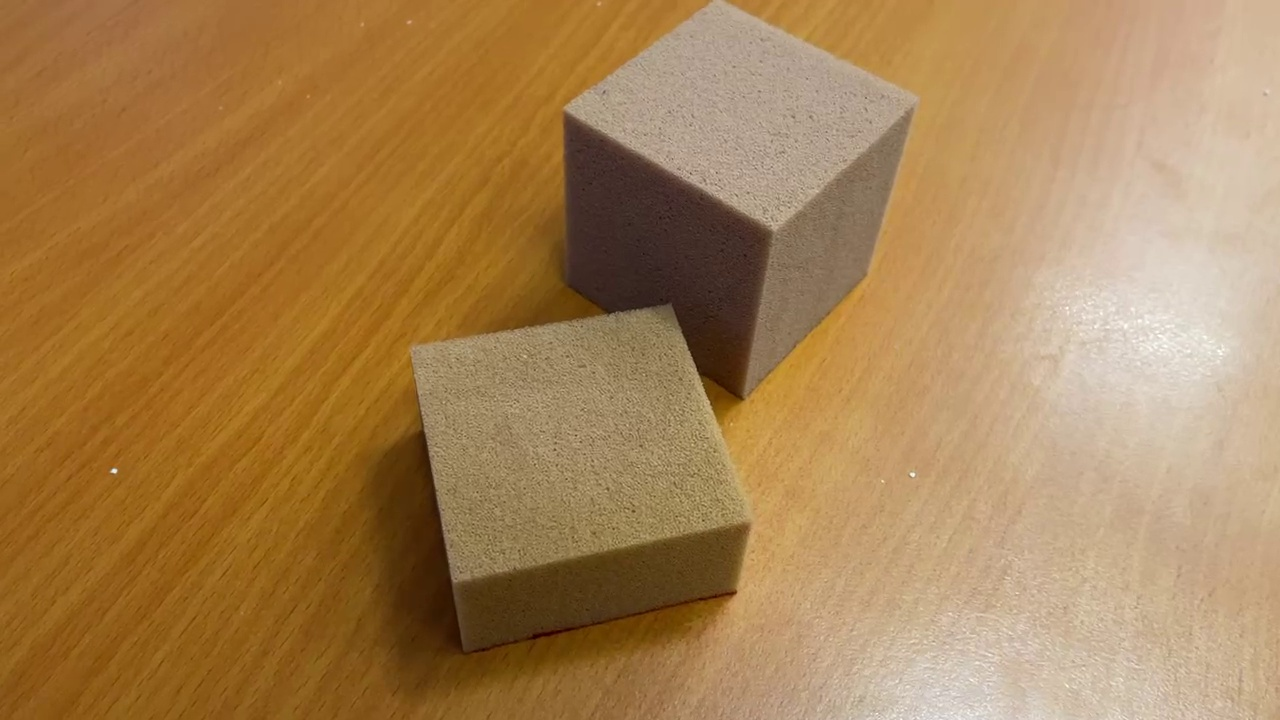Cube: (552, 1, 921, 407)
Cube_short: (399, 302, 755, 663)
